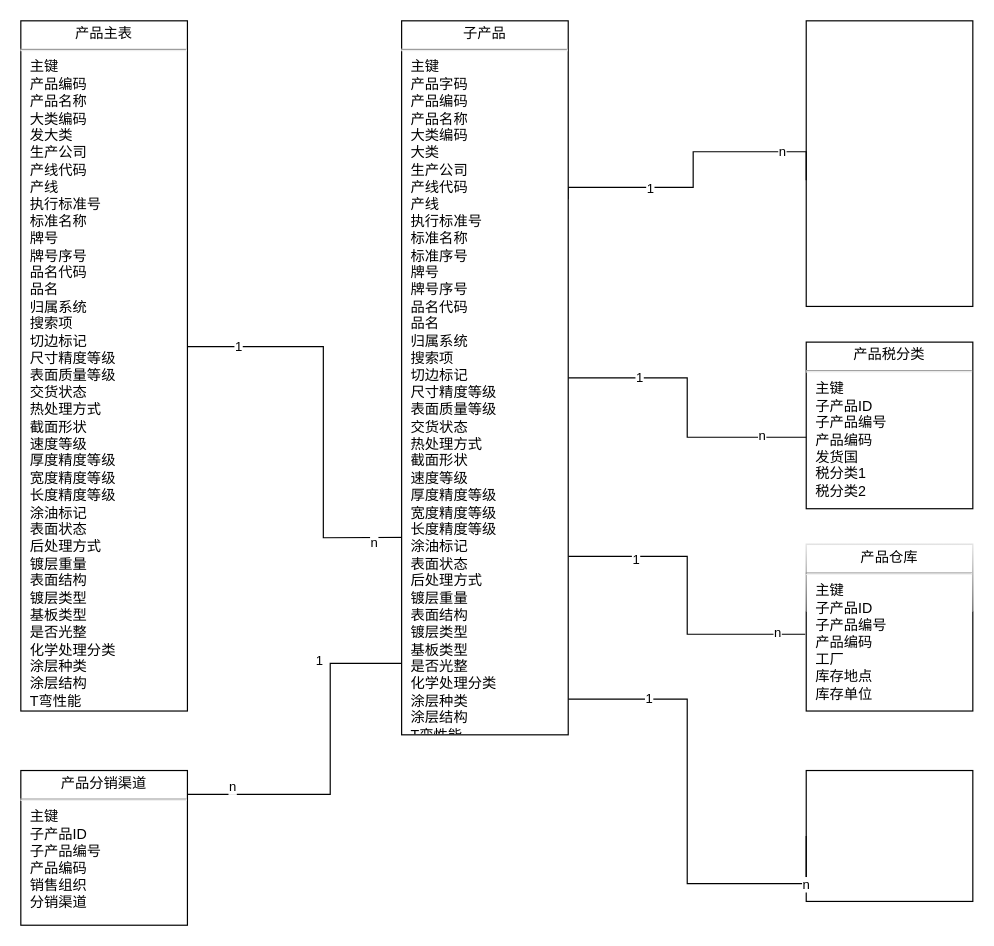
Image size: 994x946. Some labels were removed from this diagram. Each missing label, with the box of its shape:
产品工厂 主键 子产品ID 子产品编号 产品编码 工厂: (805, 769, 973, 901)
产品评估 主键 子产品ID 子产品编号 产品编码 评估范围 评估类型 价格确定 评估类 评估级别 价格控制 周期价格 价格单位 标准价格 移动平均价: (805, 20, 973, 306)
